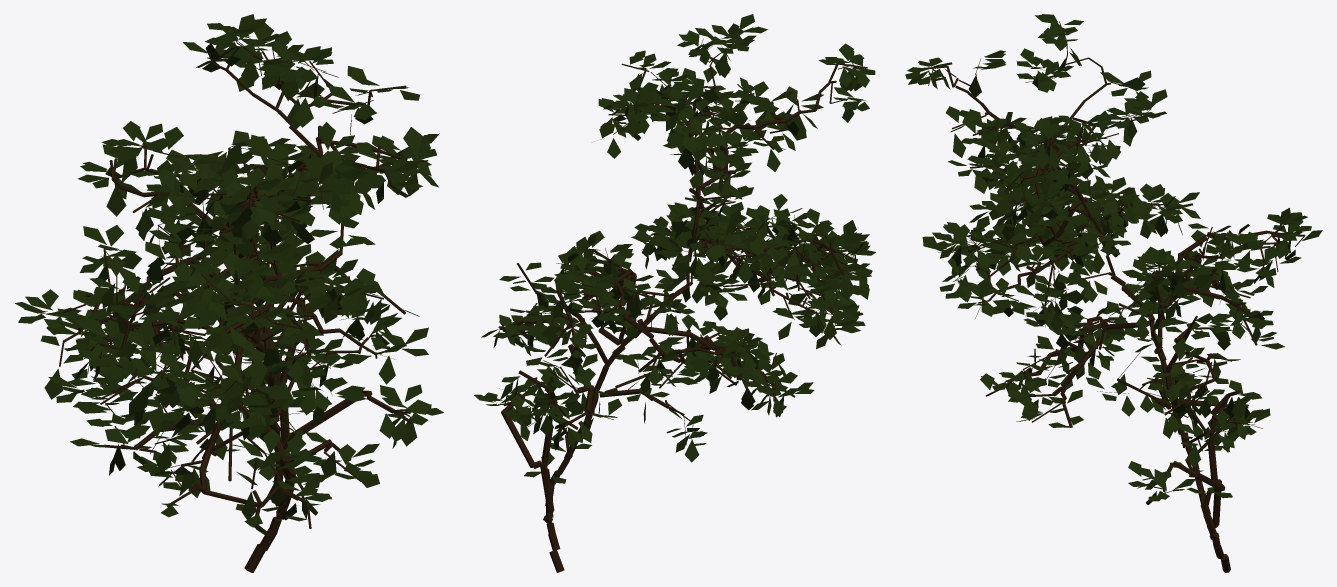
File: 2022_tree_443.obj
3 renders of one model, left to right at view 1: azimuth 30°, elevation 25°; view 2: azimuth 150°, elevation 25°; view 3: azimuth 270°, elevation 25°, orthographic. The views are drawn at different scales.
Parts seen in each view (by area): view 1: Leaves, TrunkAndBranches; view 2: Leaves, TrunkAndBranches; view 3: Leaves, TrunkAndBranches.
Boxes of the visible parts, x1,y1,x2,y2 form: Leaves: (15, 14, 443, 536); TrunkAndBranches: (40, 27, 428, 572); Leaves: (474, 14, 875, 483); TrunkAndBranches: (496, 29, 867, 572); Leaves: (905, 14, 1322, 504); TrunkAndBranches: (924, 21, 1305, 572).
Size of the model in its own units: 4.49 by 6.53 by 4.85.
